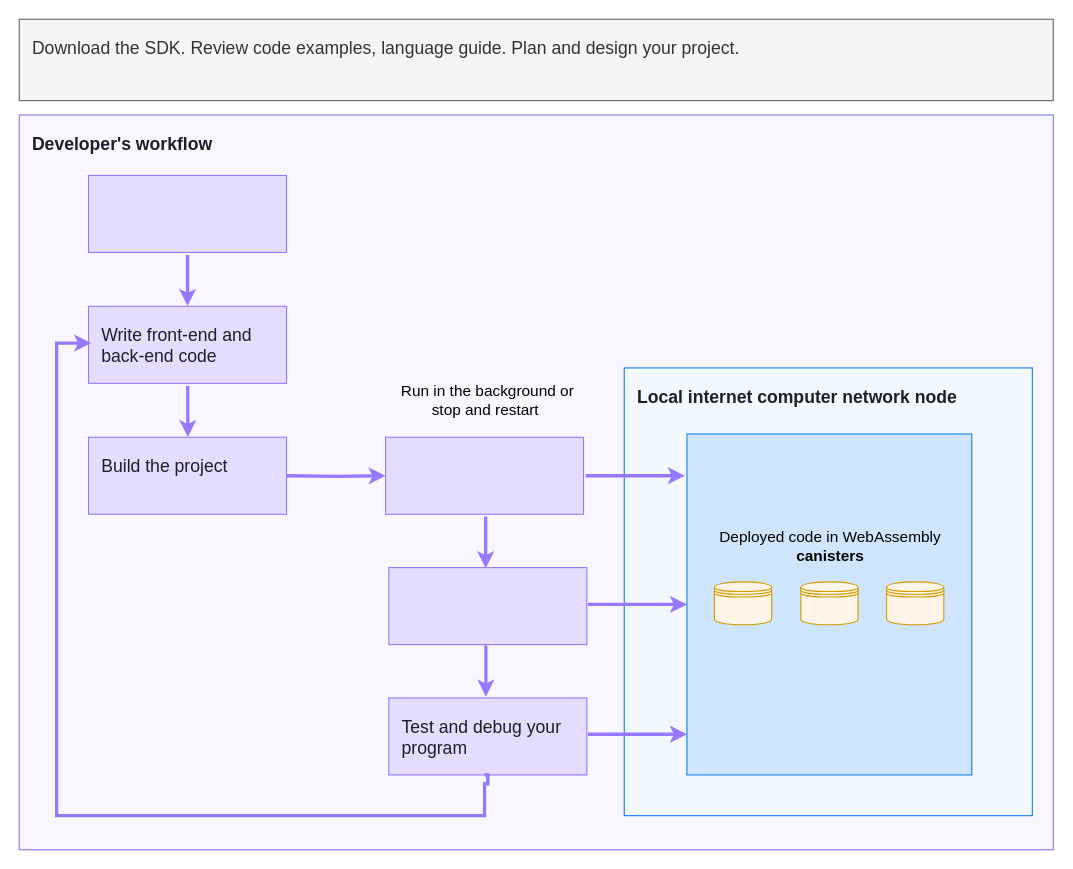
Image size: 1073x869. Some labels were removed from this diagram. Here are the shapes that lost their labels. From the top down, the centre of each, then its label:
At pixel 187 213: "Create a new project".
At pixel 484 475: "Start the local network node".
At pixel 487 605: "Install code on the local network".
